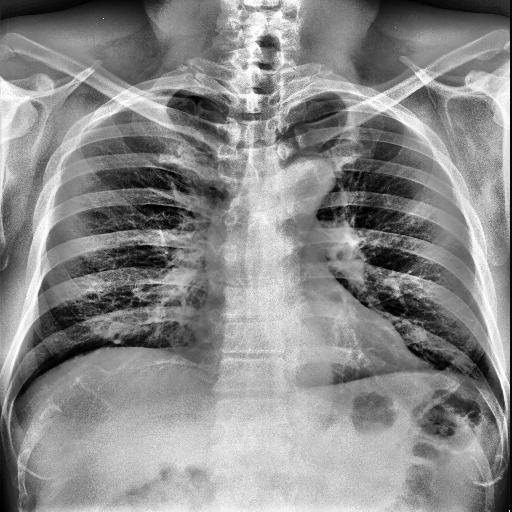0- Aortic enlargement: (268, 156, 334, 212), (278, 156, 335, 209), (284, 157, 338, 198)
